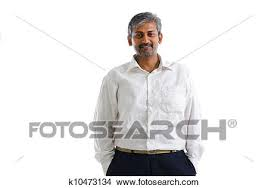Indian_Male: (128, 11, 160, 55)
